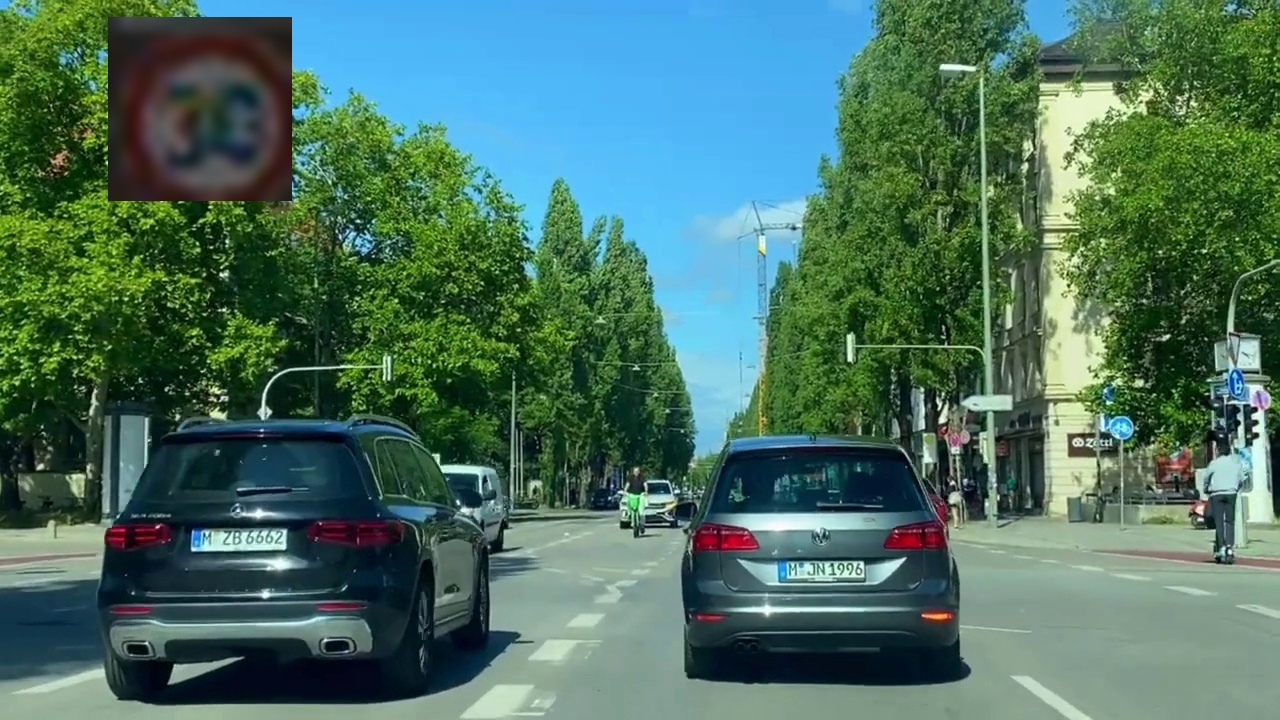Speed 30: (108, 17, 292, 201)
